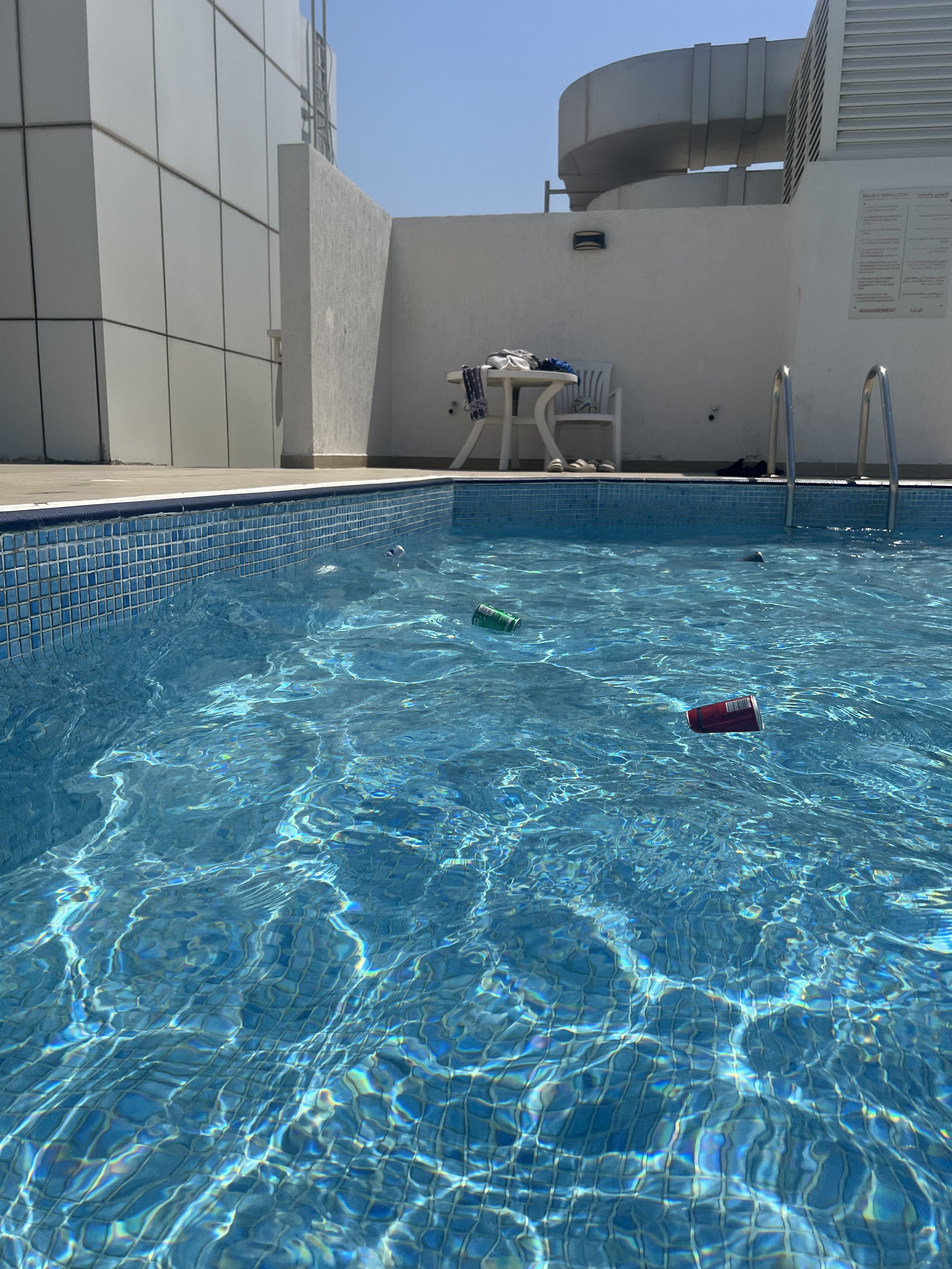debris: (677, 677, 765, 751), (470, 587, 524, 658)
